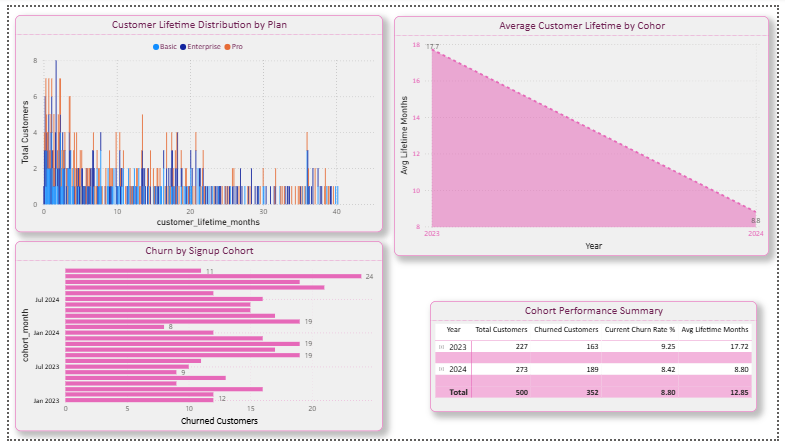

What the dashboard file says about the page in this screenshot:
{"tool":"powerbi","page":{"name":"Cohort & Retention Analysis","canvas":[1280,720],"ordinal":1},"visuals":[{"type":"columnChart","title":"Customer Lifetime Distribution by Plan","fields":{"Series":["ravenstack_master_analysis_final.current_plan"],"Category":["ravenstack_master_analysis_final.customer_lifetime_months"],"Y":["ravenstack_master_analysis_final.Total Customers"]},"box":[10,13.3,613.3,361.7],"z":0},{"type":"clusteredBarChart","title":"Churn by Signup Cohort","fields":{"Category":["ravenstack_master_analysis_final.cohort_month"],"Y":["ravenstack_master_analysis_final.Churned Customers"]},"box":[10,390,613.3,316.7],"z":1000},{"type":"lineChart","title":"Average Customer Lifetime by Cohor","fields":{"Category":["ravenstack_master_analysis_final.cohort_month.Variation.Date Hierarchy.Year","ravenstack_master_analysis_final.cohort_month.Variation.Date Hierarchy.Quarter","ravenstack_master_analysis_final.cohort_month.Variation.Date Hierarchy.Month","ravenstack_master_analysis_final.cohort_month.Variation.Date Hierarchy.Day"],"Y":["ravenstack_master_analysis_final.Avg Lifetime Months"]},"box":[641.7,15,625,400],"z":2000},{"type":"pivotTable","title":"Cohort Performance Summary","fields":{"Rows":["ravenstack_master_analysis_final.cohort_month.Variation.Date Hierarchy.Year","ravenstack_master_analysis_final.cohort_month.Variation.Date Hierarchy.Quarter","ravenstack_master_analysis_final.cohort_month.Variation.Date Hierarchy.Month","ravenstack_master_analysis_final.cohort_month.Variation.Date Hierarchy.Day"],"Values":["ravenstack_master_analysis_final.Total Customers","ravenstack_master_analysis_final.Churned Customers","ravenstack_master_analysis_final.Current Churn Rate %","ravenstack_master_analysis_final.Avg Lifetime Months"]},"box":[701.7,490,545,185],"z":3000}]}

Visuals, with their boxes in screenshot pixels (x1, y1, x2, y2), scaled from the page's 1280x720 canvas onto the 785x448 screenshot:
"Customer Lifetime Distribution by Plan" columnChart: {"x1": 6, "y1": 8, "x2": 382, "y2": 233}
"Churn by Signup Cohort" clusteredBarChart: {"x1": 6, "y1": 243, "x2": 382, "y2": 440}
"Average Customer Lifetime by Cohor" lineChart: {"x1": 394, "y1": 9, "x2": 777, "y2": 258}
"Cohort Performance Summary" pivotTable: {"x1": 430, "y1": 305, "x2": 765, "y2": 420}
